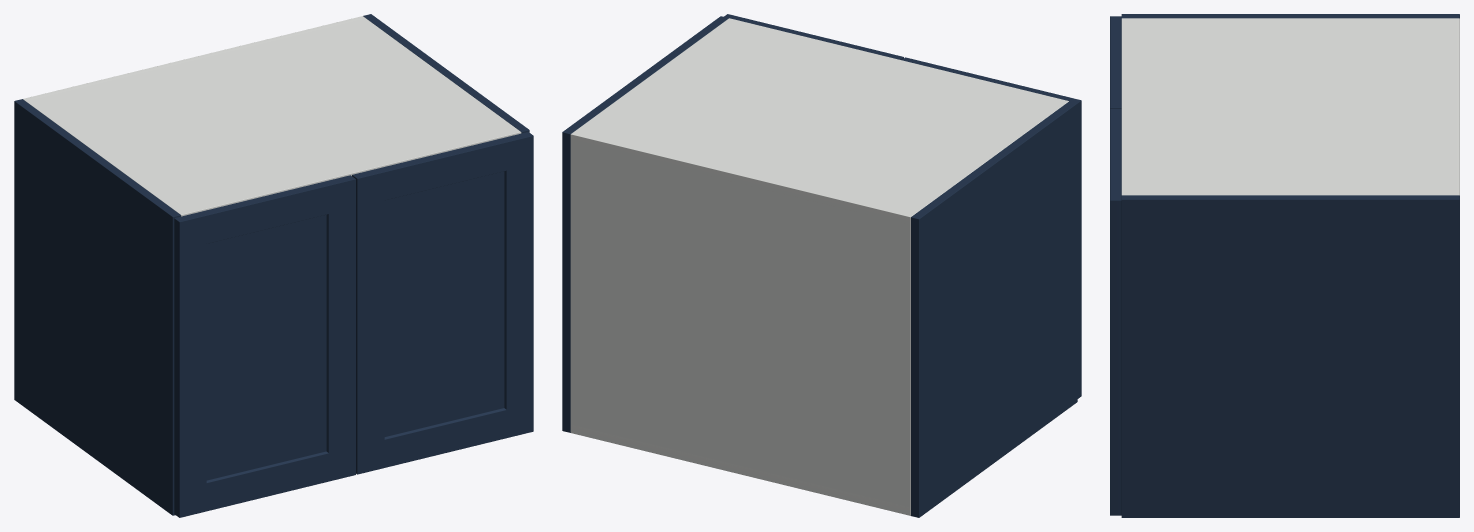
Rendered from oppein-pb-bss-w302424.glb.
3 renders of one model, left to right at view 1: azimuth 30°, elevation 25°; view 2: azimuth 150°, elevation 25°; view 3: azimuth 270°, elevation 25°, orthographic. The views are drawn at different scales.
Visible parts, largest first — view 1: Door, Door.001, Cabinet top, Cabinet side, Cabinet side.001, Cabinet back; view 2: Cabinet back, Cabinet top, Cabinet side, Cabinet side.001, Door, Cabinet bottom, Door.001; view 3: Cabinet side.001, Cabinet top, Door.001, Cabinet side, Cabinet back, Door.
Part boxes in pixels (box(x1,y1,x2,y2)): Door: box(174, 175, 355, 517); Door.001: box(352, 132, 533, 474); Cabinet top: box(23, 16, 521, 216); Cabinet side: box(14, 99, 180, 515); Cabinet side.001: box(363, 14, 529, 133); Cabinet back: box(23, 16, 365, 100); Cabinet back: box(570, 132, 912, 515); Cabinet top: box(570, 18, 1068, 224); Cabinet side: box(911, 101, 1077, 517); Cabinet side.001: box(562, 16, 728, 432); Door: box(902, 57, 1081, 398); Cabinet bottom: box(570, 425, 910, 514); Door.001: box(724, 14, 903, 59); Cabinet side.001: box(1121, 195, 1459, 517); Cabinet top: box(1121, 18, 1458, 195); Door.001: box(1110, 108, 1121, 515); Cabinet side: box(1121, 14, 1459, 18); Cabinet back: box(1453, 18, 1459, 195); Door: box(1110, 16, 1121, 108).
Bounding box in the file's own units: 0.762 × 0.6096 × 0.6064.
